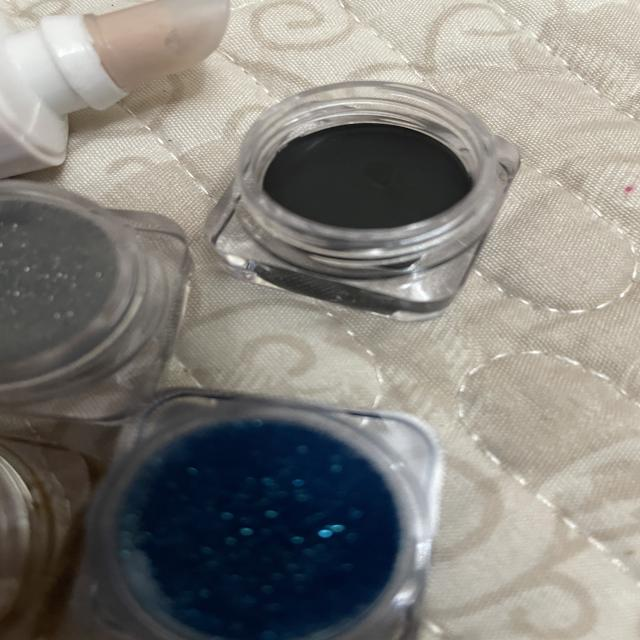eye shade: (83, 402, 449, 640), (210, 70, 535, 328), (0, 162, 198, 393)
